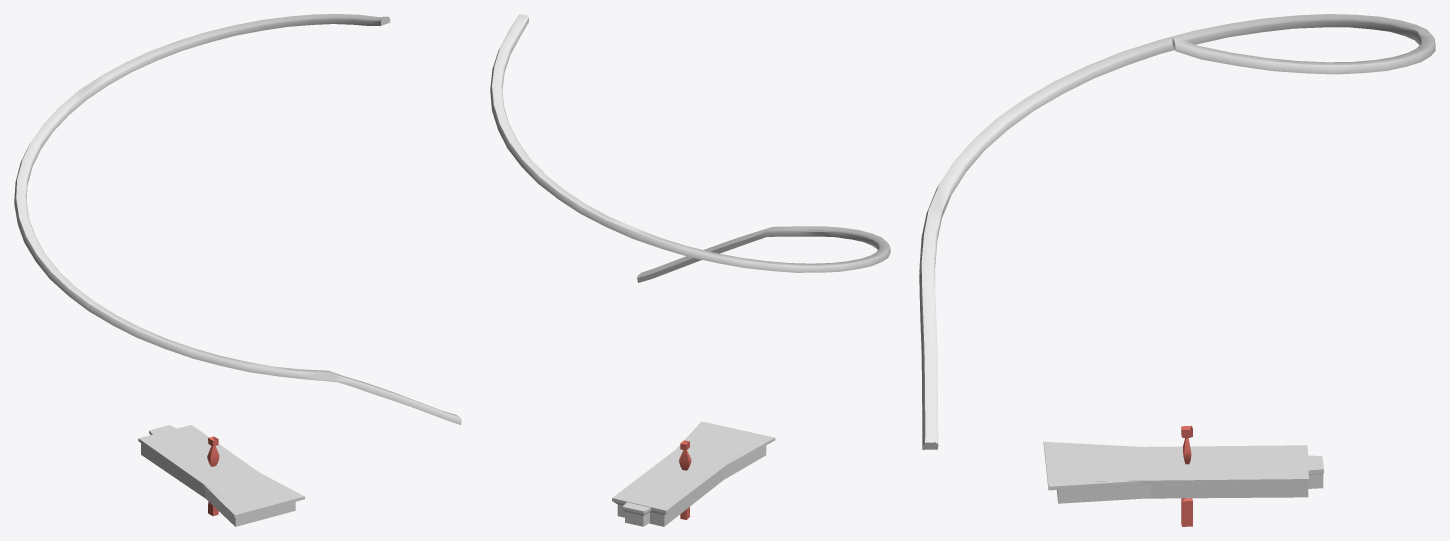
File: Treppe wirklich Final.fbx
3 renders of one model, left to right at view 1: azimuth 30°, elevation 25°; view 2: azimuth 150°, elevation 25°; view 3: azimuth 270°, elevation 25°, orthographic. The views are drawn at different scales.
Parts seen in each view (by area): view 1: Treppe_wirklich_Final_Treppe_11_Cube_006, Treppe_wirklich_Final_Cube_062, Treppe_wirklich_Final_Cube_024; view 2: Treppe_wirklich_Final_Treppe_11_Cube_006, Treppe_wirklich_Final_Cube_062, Treppe_wirklich_Final_Cube_024; view 3: Treppe_wirklich_Final_Treppe_11_Cube_006, Treppe_wirklich_Final_Cube_062, Treppe_wirklich_Final_Cube_024, Treppe_wirklich_Final_Cube_017.
Boxes of the visible parts, <box> form: Treppe_wirklich_Final_Treppe_11_Cube_006: <box>14,14,461,424</box>; Treppe_wirklich_Final_Cube_062: <box>138,425,289,508</box>; Treppe_wirklich_Final_Cube_024: <box>149,425,304,526</box>; Treppe_wirklich_Final_Treppe_11_Cube_006: <box>490,14,890,282</box>; Treppe_wirklich_Final_Cube_062: <box>612,428,759,526</box>; Treppe_wirklich_Final_Cube_024: <box>622,421,775,526</box>; Treppe_wirklich_Final_Treppe_11_Cube_006: <box>919,14,1435,449</box>; Treppe_wirklich_Final_Cube_062: <box>1059,445,1308,498</box>; Treppe_wirklich_Final_Cube_024: <box>1043,441,1323,503</box>; Treppe_wirklich_Final_Cube_017: <box>1181,425,1192,526</box>.
Size of the model in its own units: 655 by 827 by 656.
